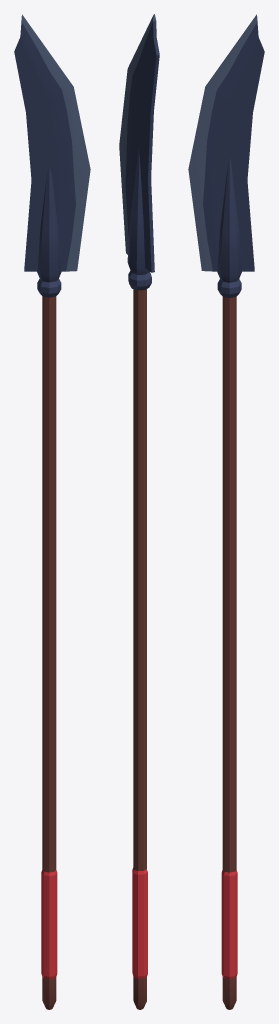
The model's file is Polearm_06.fbx.
3 views of the same model, side by side, from view 1: azimuth 90°, elevation 25°; view 2: azimuth 210°, elevation 25°; view 3: azimuth 270°, elevation 25° (orthographic).
Visible parts, largest first — view 1: Polearm_06; view 2: Polearm_06; view 3: Polearm_06.
Part boxes in pixels (x1=…): Polearm_06: x1=14, y1=14, x2=90, y2=1009; Polearm_06: x1=119, y1=14, x2=159, y2=1009; Polearm_06: x1=188, y1=14, x2=264, y2=1009.
Bounding box in the file's own units: 6.85 × 293 × 20.32.
